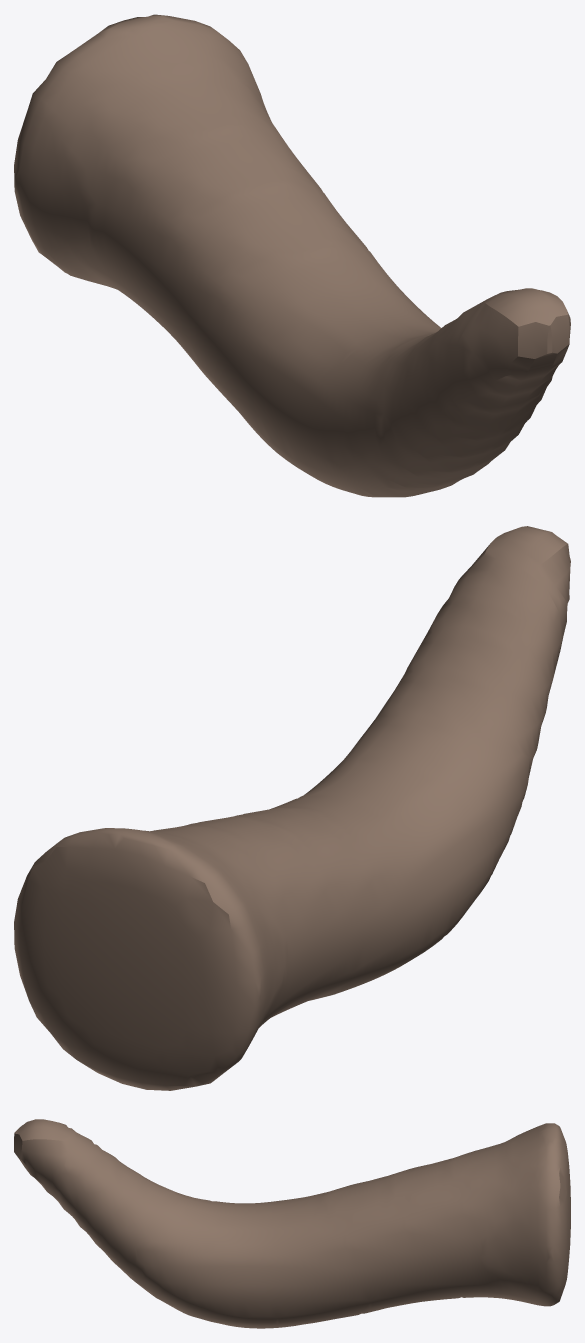
File: MushroomStemTilt4.fbx
3 renders of one model, top to bottom at view 1: azimuth 30°, elevation 25°; view 2: azimuth 150°, elevation 25°; view 3: azimuth 270°, elevation 25°, orthographic. The views are drawn at different scales.
Visible parts, largest first — view 1: Cube.001; view 2: Cube.001; view 3: Cube.001.
Boxes of the visible parts, bbox=[...] form: Cube.001: bbox=[14, 14, 570, 497]; Cube.001: bbox=[14, 526, 570, 1090]; Cube.001: bbox=[14, 1119, 570, 1328].
Size of the model in its own units: 78.77 by 93.23 by 239.
